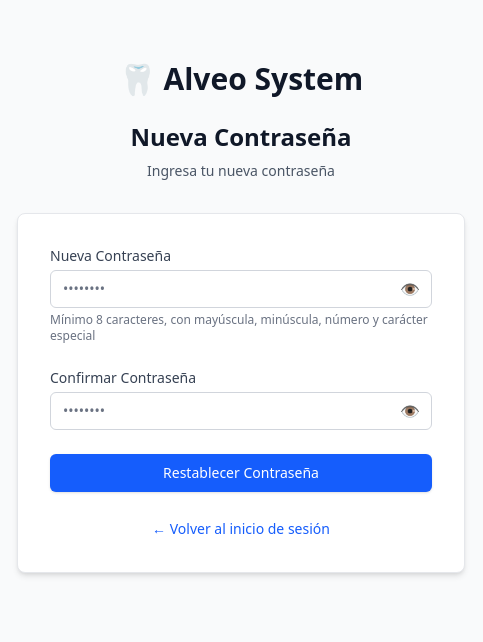
ResetPasswordPage › error handling › should display TOKEN_USED error message
In the password field labelled "Nueva Contraseña": (241,289) [50,270,432,308], type "NewPassword1!"
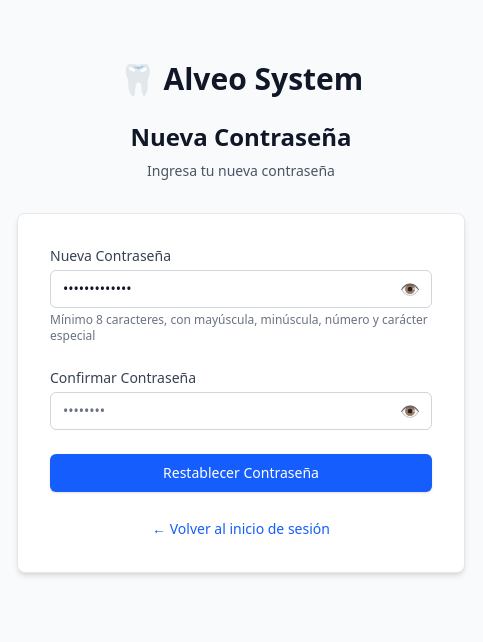
In the password field labelled "Confirmar Contraseña": (241,411) [50,392,432,430], type "NewPassword1!"
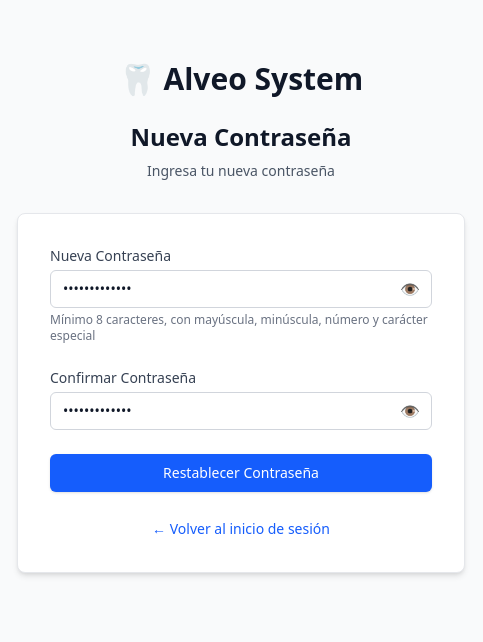
Click the button "Restablecer Contraseña": (241,473) [50,454,432,492]
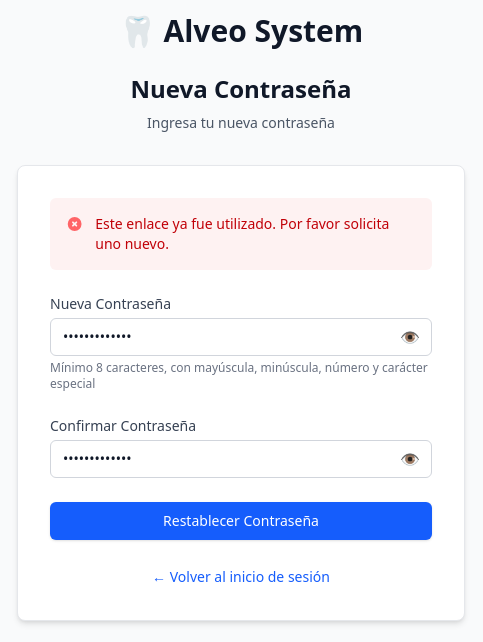
expect the text "Este enlace ya fue utilizado. Por favor solicita uno nuevo." is shown: met, box [95,214,416,254]
